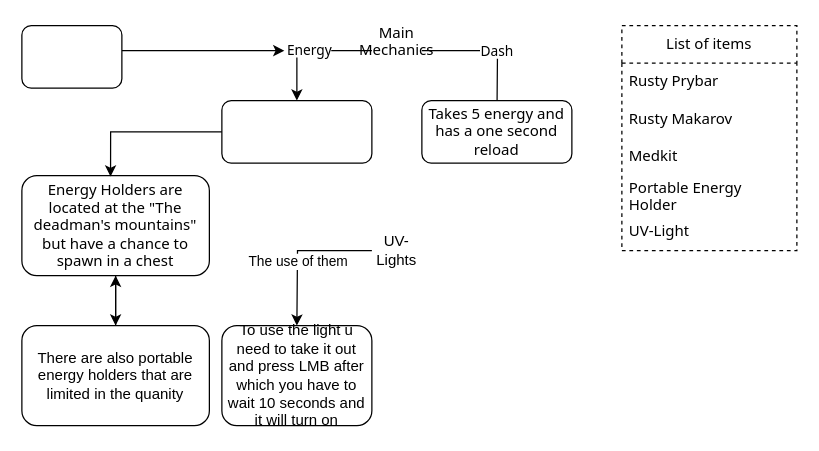
The diagram is 819 pixels wide and 451 high, and some of its shapes have lost their labels. Here are the shapes that lost their labels. From the top down, the centre of each, then its label:
At point 71,56: "Energy minimum value is 10".
At point 296,131: "Energy Replenishes itself after using a energy holder".
